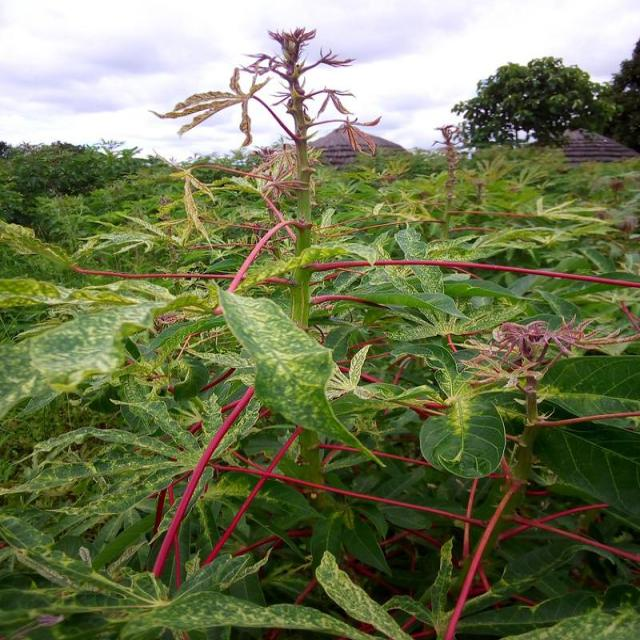cassava leaf: (215, 283, 385, 469), (0, 297, 165, 420), (418, 392, 507, 479)
